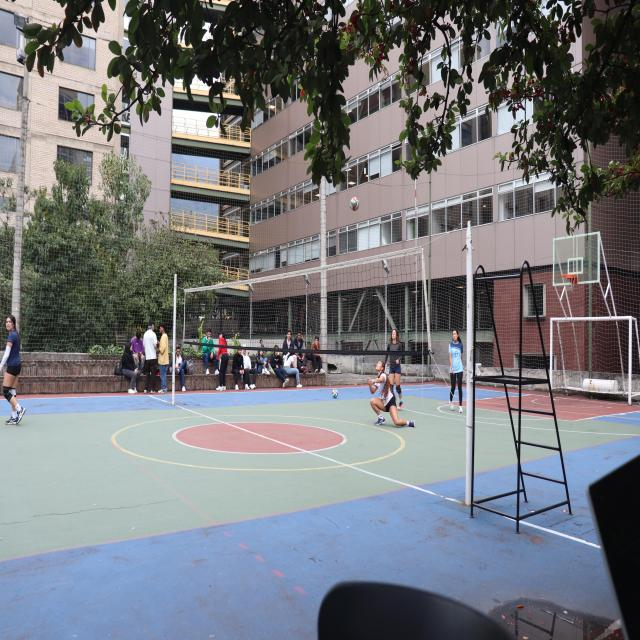volleyball: (350, 197, 359, 211), (332, 388, 338, 398)
